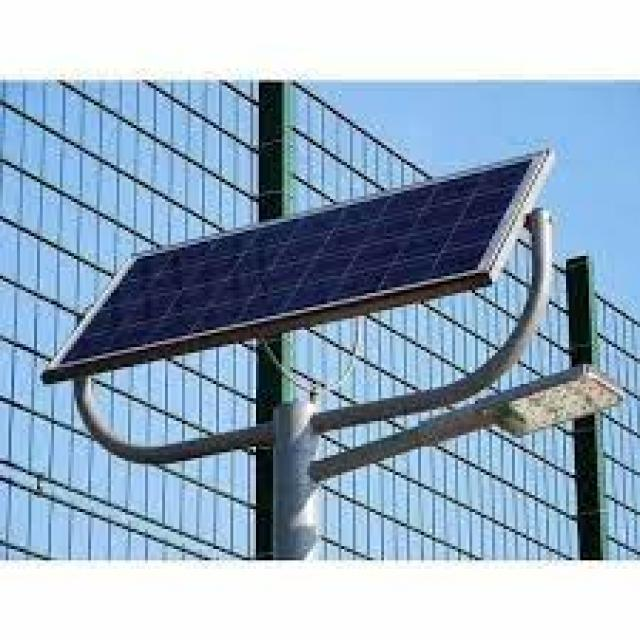no faulty: (52, 153, 534, 360)
